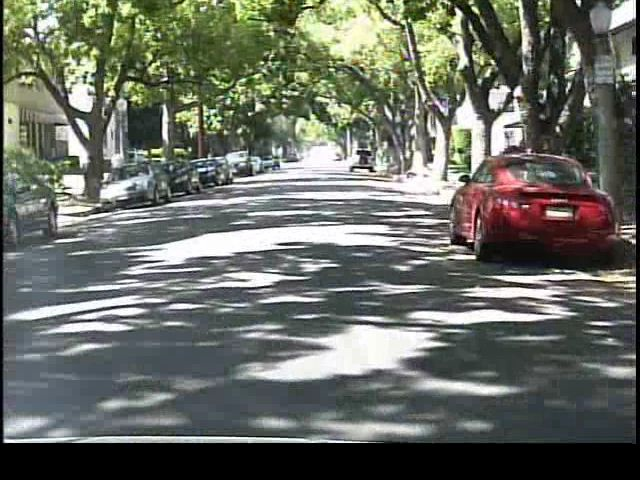person: (110, 147, 133, 198)
